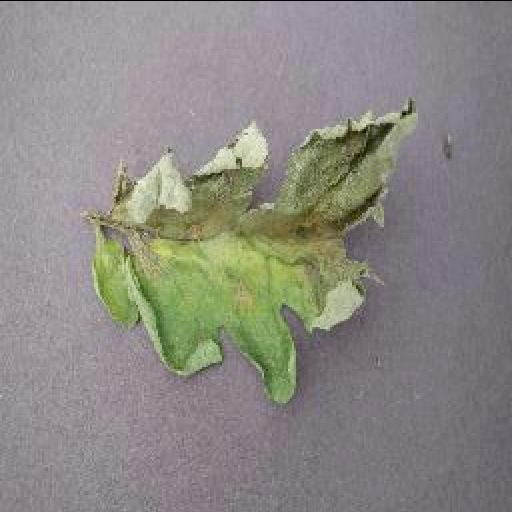disease_tomato: (88, 97, 428, 403)
